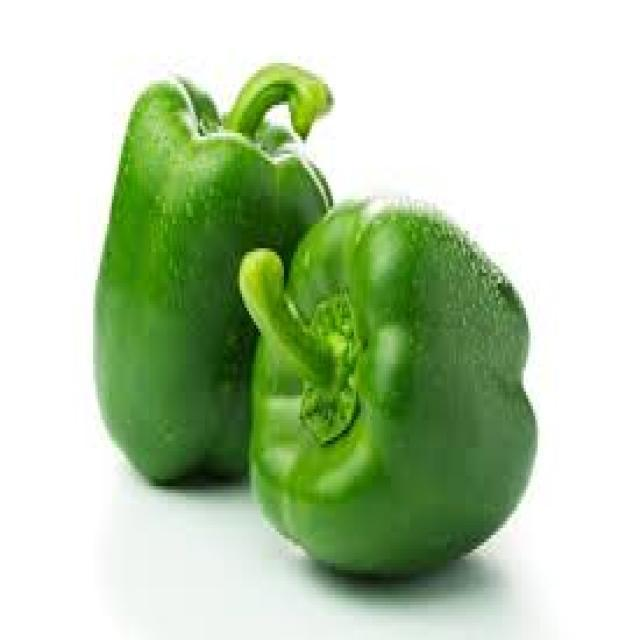Capsicum: (236, 192, 540, 578), (90, 59, 338, 481)
